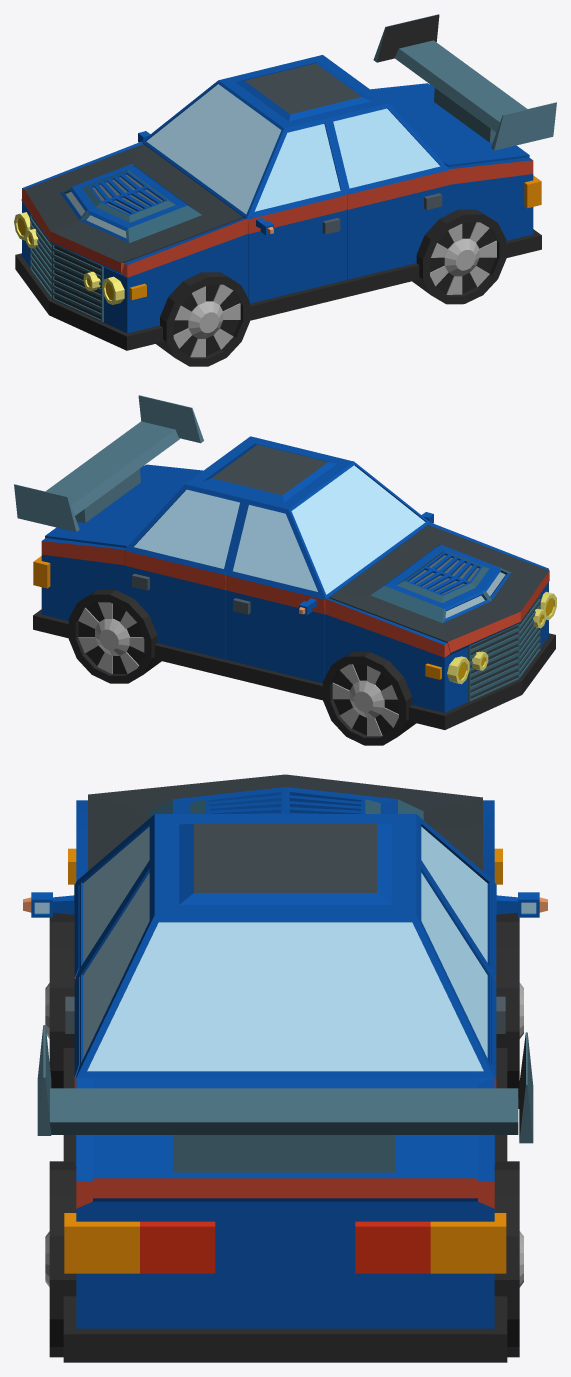
File: Audi_A7_Sportback.glb
3 views of the same model, one above another, from view 1: azimuth 30°, elevation 25°; view 2: azimuth 150°, elevation 25°; view 3: azimuth 270°, elevation 25° (orthographic). The views are drawn at different scales.
Visible parts, largest first — view 1: Cube, Cylinder.003, Cylinder.002, Cylinder, Cylinder.001; view 2: Cube, Cylinder.004, Cylinder.005, Cylinder.001, Cylinder; view 3: Cube, Cylinder.003, Cylinder.002, Cylinder.005, Cylinder.004.
Part boxes in pixels (box(x1,y1,x2,y2)): Cube: box(15, 14, 556, 350); Cylinder.003: box(412, 209, 506, 304); Cylinder.002: box(156, 272, 249, 366); Cylinder: box(83, 271, 124, 304); Cylinder.001: box(14, 212, 38, 248); Cube: box(14, 395, 555, 729); Cylinder.004: box(323, 652, 415, 745); Cylinder.005: box(68, 590, 161, 683); Cylinder.001: box(447, 651, 488, 684); Cylinder: box(533, 591, 556, 628); Cube: box(23, 774, 547, 1362); Cylinder.003: box(45, 1161, 76, 1357); Cylinder.002: box(45, 912, 74, 1088); Cylinder.005: box(494, 1161, 523, 1357); Cylinder.004: box(496, 912, 523, 1108).
Bounding box in the file's own units: 5.7 × 2.38 × 2.89.
1 material, 1 textured.
